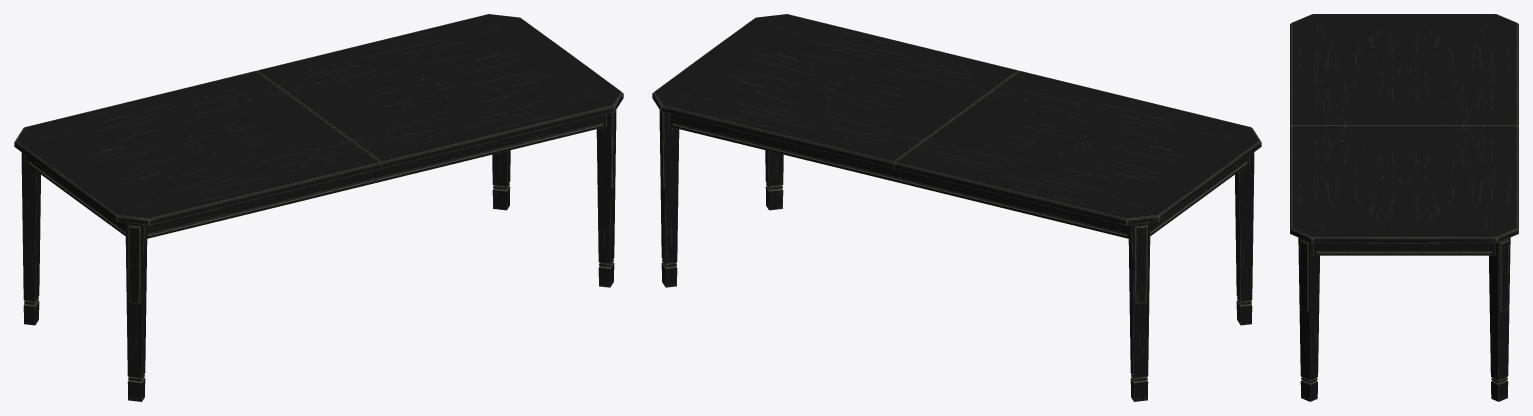
The model's file is example87.gltf.
The picture shows the model from 3 angles, left to right: view 1: azimuth 30°, elevation 25°; view 2: azimuth 150°, elevation 25°; view 3: azimuth 270°, elevation 25°; orthographic projection. The views are drawn at different scales.
Size of the model in its own units: 220 by 77.4 by 95.
2 materials, 1 textured.
